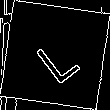L_NW: (28, 25, 82, 85)
